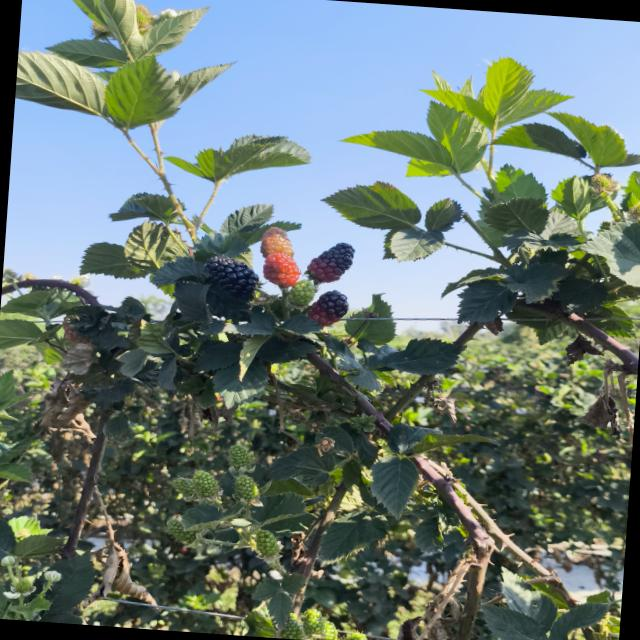maduro: (205, 256, 258, 300)
marron: (306, 242, 354, 282), (307, 290, 348, 326)
naranja: (262, 252, 300, 287), (260, 226, 293, 258)
verde: (288, 280, 315, 307), (192, 470, 218, 496), (234, 474, 258, 501), (255, 529, 279, 555), (280, 614, 303, 639), (302, 608, 324, 634), (228, 445, 251, 469), (166, 517, 188, 542), (171, 477, 194, 495)
